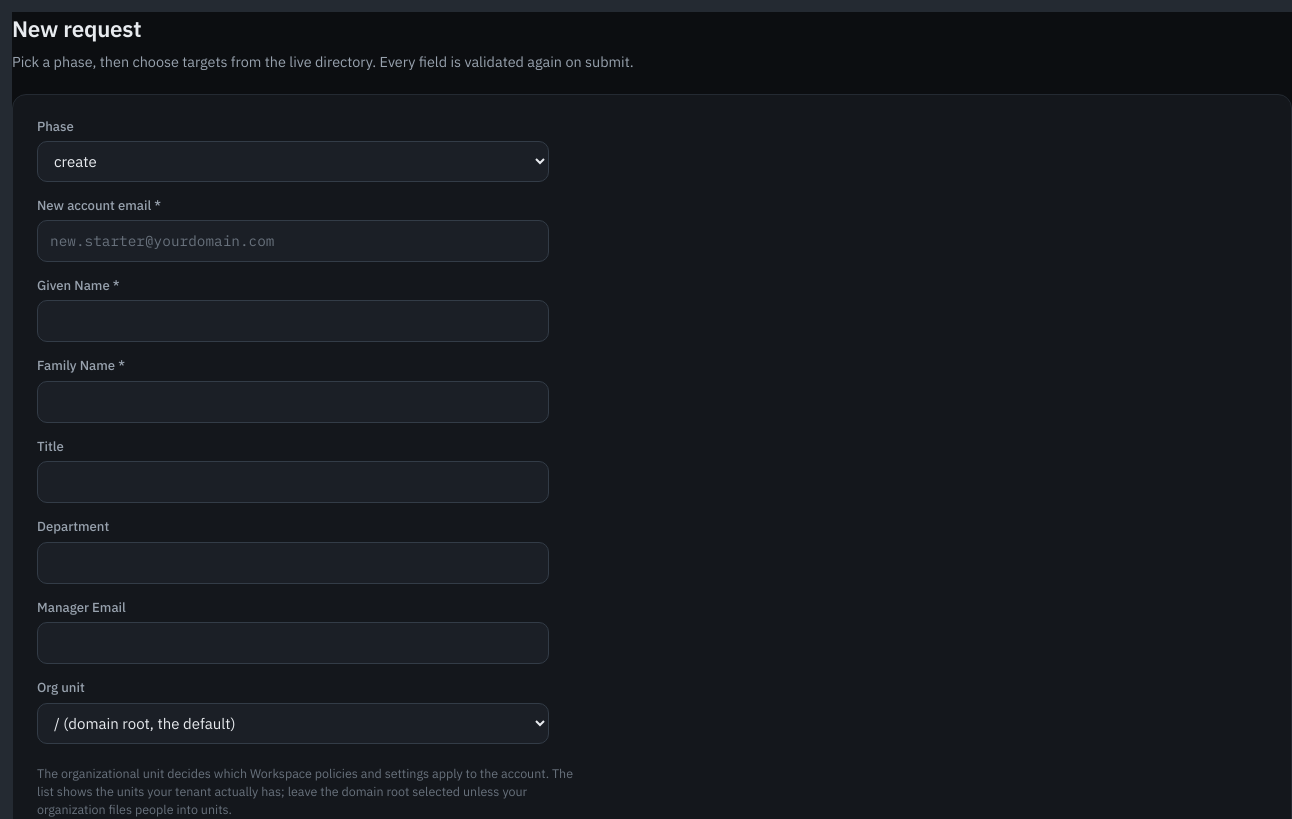
Scenario: AC-2 and AC-3: the target, groups and org unit are chosen, not typed › pre-fills an update from the selected user’s live attributes
Select "update" in the dropdown labelled "Phase". click: (293, 162)
box: [37,141,549,182]
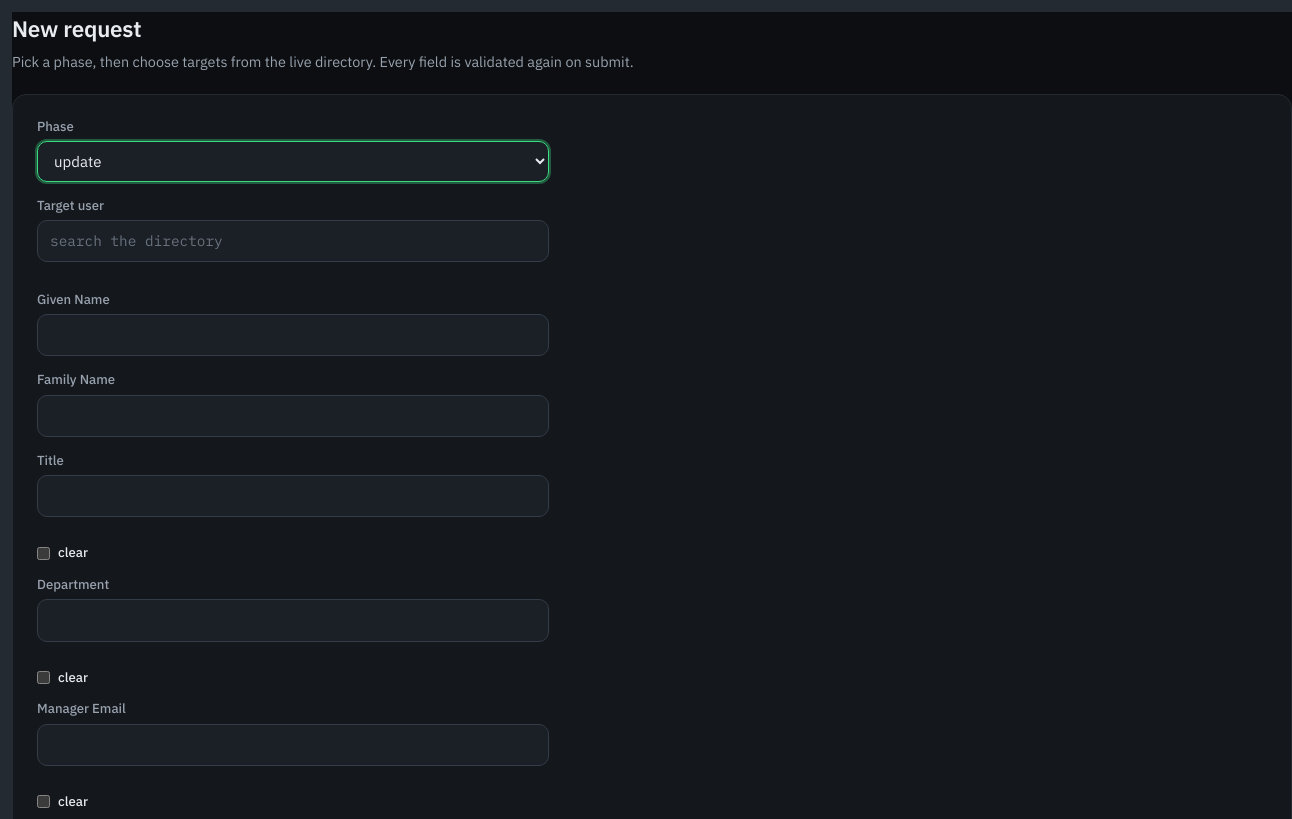
Type "ada" into the search field labelled "Target user". click: (293, 241)
box: [37,220,549,262]
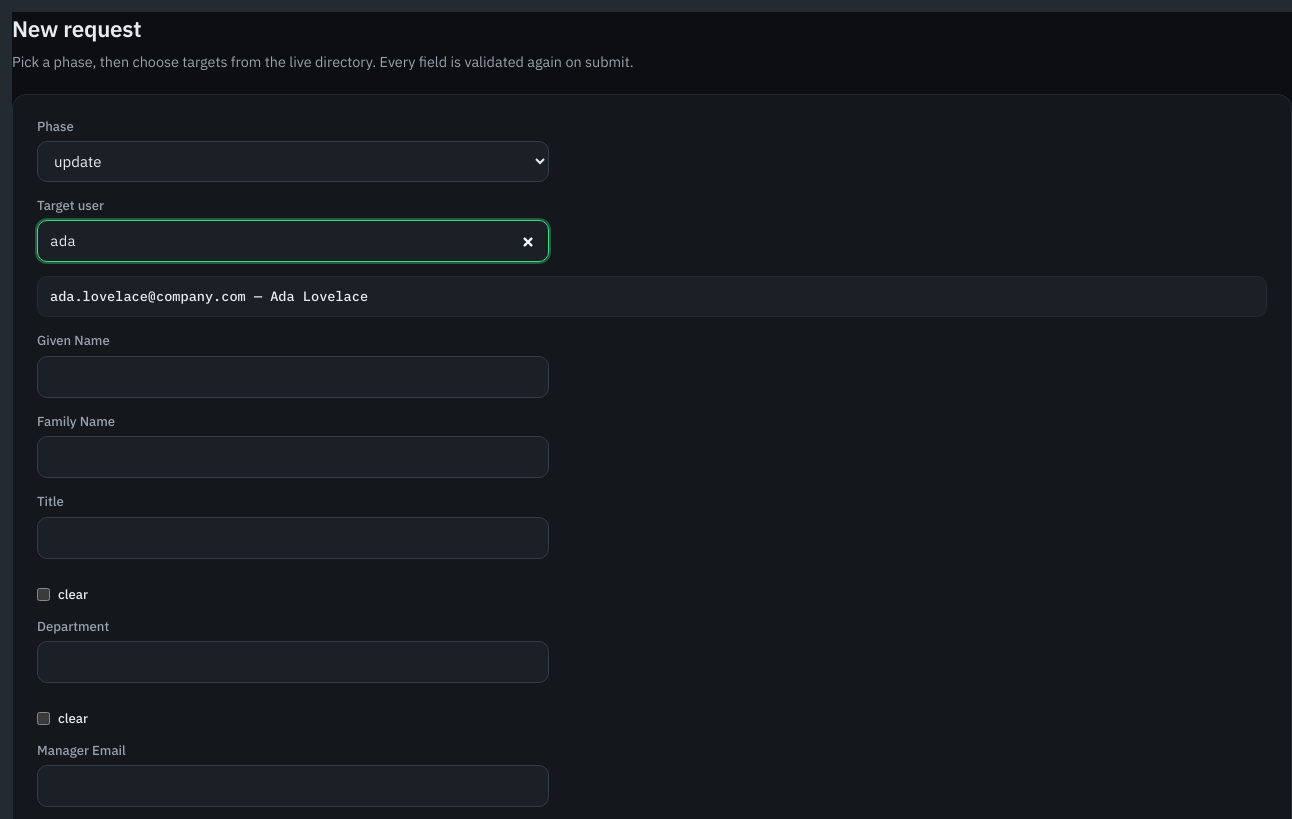
Click the button "ada.lovelace@company.com — Ada Lovelace". click: (148, 296)
box: [37,276,1267,317]
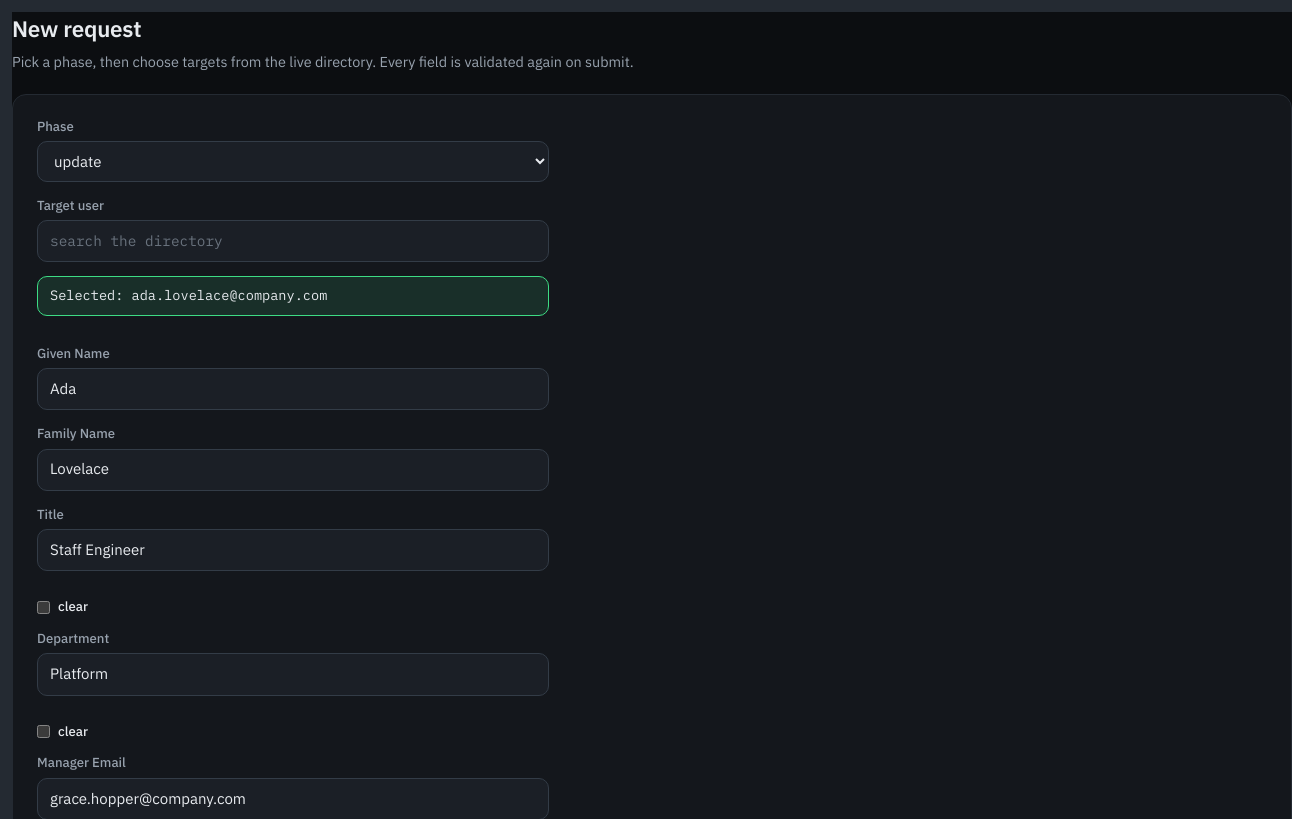
Result: the field labelled "Title" holds "Staff Engineer" at [37,529,549,571]
Result: the field labelled "Department" holds "Platform" at [37,653,549,696]
